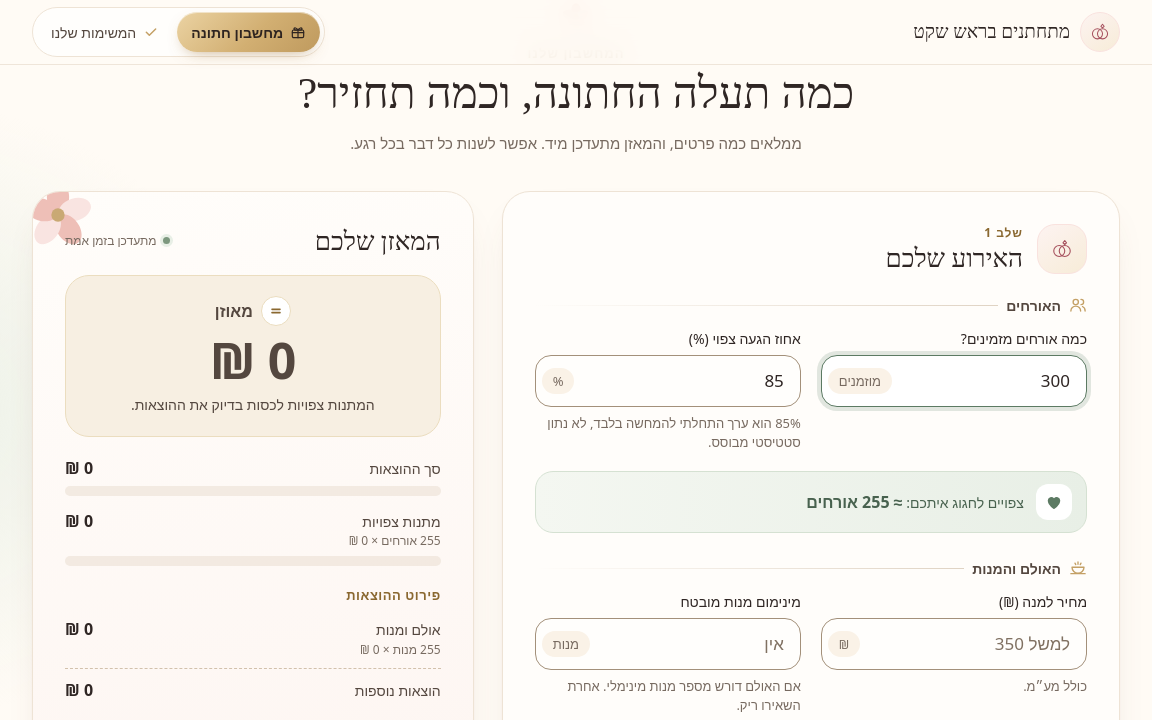
Event details form › updates the expected attending guests while typing
Earlier steps of the test are not shown.
(page scrolled)
Expected: the text "צפויים לחגוג איתכם: ≈ 255 אורחים" is shown, [806,491,1024,513]
Replace the text in the field labelled "אחוז הגעה צפוי (%)" with "70" at [687, 381], box [574,358,800,404]
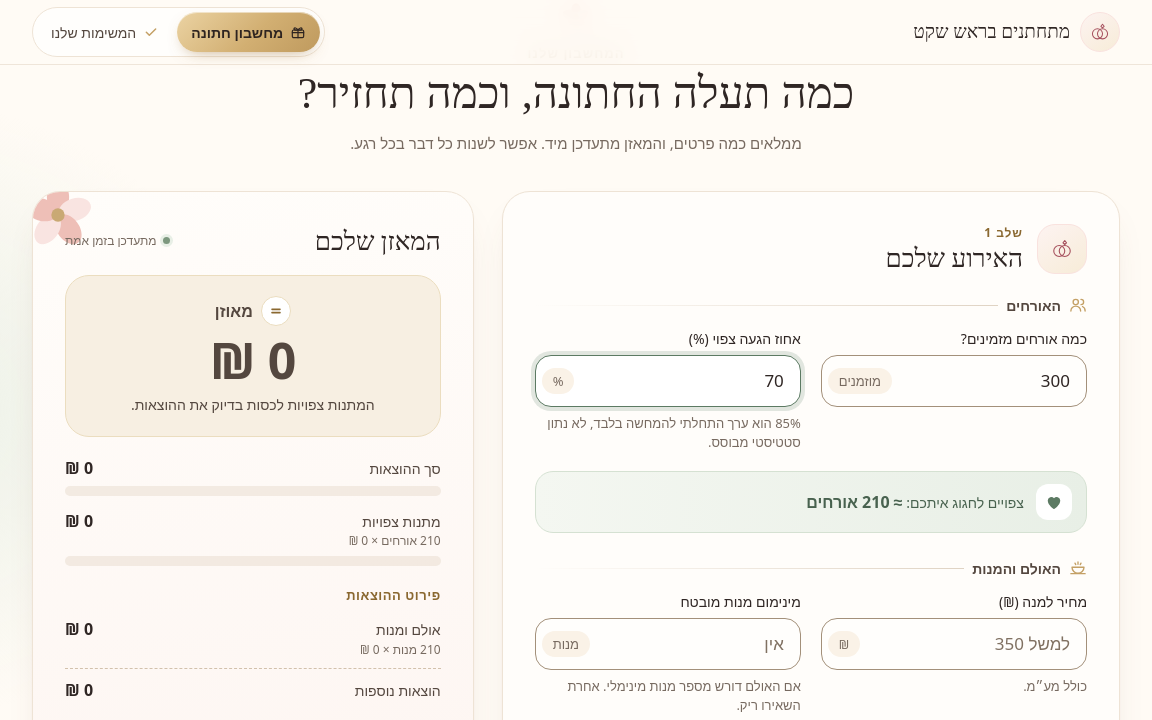
Expected: the text "צפויים לחגוג איתכם: ≈ 210 אורחים" is shown, [806,491,1024,513]
